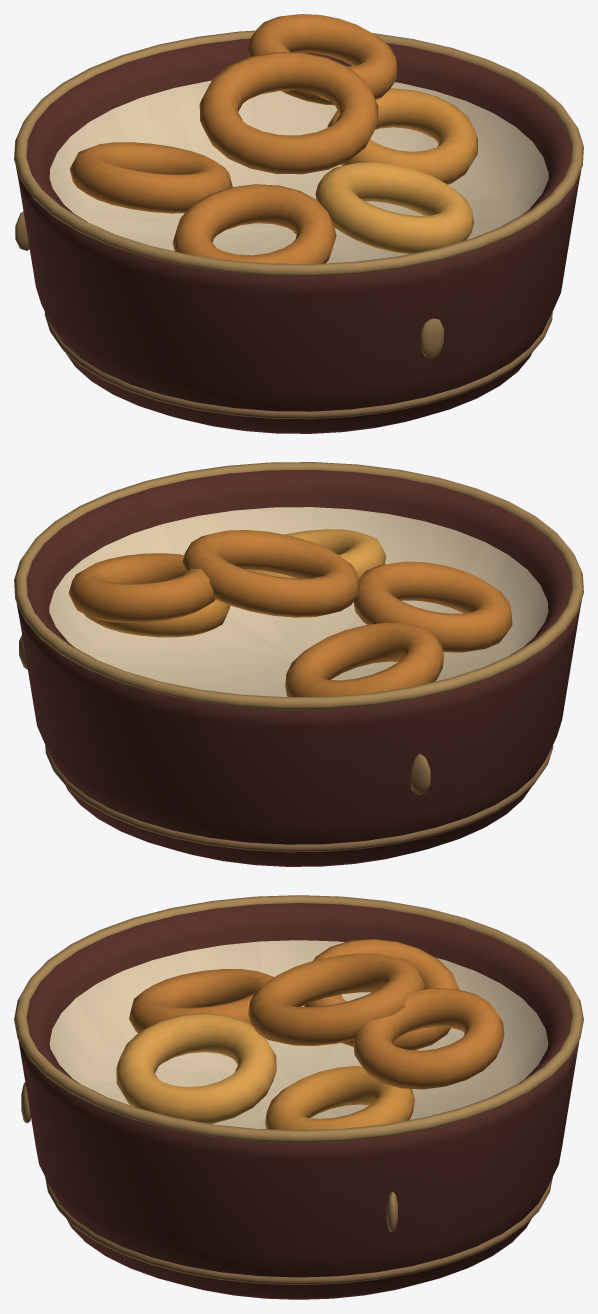
Rendered from mini-donuts.glb.
3 views of the same model, one above another, from view 1: azimuth 30°, elevation 25°; view 2: azimuth 150°, elevation 25°; view 3: azimuth 270°, elevation 25° (orthographic).
Visible parts, largest first — view 1: Burgundy_festival_basket, Warm_cream_basket_lining, Visible_ring_mini_donut_4, Antique_brass_basket_rim, Visible_ring_mini_donut_1, Visible_ring_mini_donut_3, Visible_ring_mini_donut_0, Visible_ring_mini_donut_2, Visible_ring_mini_donut_5, Basket_lower_brass_band, Tiny_brass_leaf_2; view 2: Burgundy_festival_basket, Warm_cream_basket_lining, Antique_brass_basket_rim, Visible_ring_mini_donut_4, Visible_ring_mini_donut_0, Visible_ring_mini_donut_3, Visible_ring_mini_donut_5, Basket_lower_brass_band, Visible_ring_mini_donut_1, Visible_ring_mini_donut_2, Tiny_brass_leaf_1; view 3: Burgundy_festival_basket, Warm_cream_basket_lining, Antique_brass_basket_rim, Visible_ring_mini_donut_1, Visible_ring_mini_donut_4, Visible_ring_mini_donut_5, Visible_ring_mini_donut_2, Visible_ring_mini_donut_0, Basket_lower_brass_band, Visible_ring_mini_donut_3.
Boxes of the visible parts, x1=… form: Burgundy_festival_basket: x1=16, y1=38, x2=581, y2=433; Warm_cream_basket_lining: x1=49, y1=80, x2=548, y2=263; Visible_ring_mini_donut_4: x1=199, y1=52, x2=378, y2=174; Antique_brass_basket_rim: x1=14, y1=30, x2=583, y2=276; Visible_ring_mini_donut_1: x1=315, y1=162, x2=473, y2=254; Visible_ring_mini_donut_3: x1=70, y1=142, x2=232, y2=213; Visible_ring_mini_donut_0: x1=172, y1=184, x2=336, y2=263; Visible_ring_mini_donut_2: x1=327, y1=88, x2=477, y2=184; Visible_ring_mini_donut_5: x1=248, y1=14, x2=397, y2=105; Basket_lower_brass_band: x1=44, y1=312, x2=552, y2=419; Tiny_brass_leaf_2: x1=420, y1=318, x2=443, y2=358; Burgundy_festival_basket: x1=16, y1=469, x2=581, y2=866; Warm_cream_basket_lining: x1=49, y1=507, x2=548, y2=696; Antique_brass_basket_rim: x1=14, y1=462, x2=583, y2=709; Visible_ring_mini_donut_4: x1=182, y1=530, x2=359, y2=617; Visible_ring_mini_donut_0: x1=353, y1=561, x2=512, y2=652; Visible_ring_mini_donut_3: x1=285, y1=623, x2=443, y2=696; Visible_ring_mini_donut_5: x1=68, y1=553, x2=215, y2=622; Basket_lower_brass_band: x1=45, y1=745, x2=553, y2=852; Visible_ring_mini_donut_1: x1=245, y1=529, x2=386, y2=578; Visible_ring_mini_donut_2: x1=83, y1=599, x2=230, y2=637; Tiny_brass_leaf_1: x1=410, y1=753, x2=430, y2=794; Burgundy_festival_basket: x1=18, y1=903, x2=579, y2=1299; Warm_cream_basket_lining: x1=49, y1=940, x2=548, y2=1128; Antique_brass_basket_rim: x1=14, y1=895, x2=583, y2=1142; Visible_ring_mini_donut_1: x1=116, y1=1013, x2=276, y2=1123; Visible_ring_mini_donut_4: x1=248, y1=953, x2=424, y2=1045; Visible_ring_mini_donut_5: x1=353, y1=988, x2=504, y2=1089; Visible_ring_mini_donut_2: x1=265, y1=1066, x2=414, y2=1130; Visible_ring_mini_donut_0: x1=129, y1=969, x2=273, y2=1032; Basket_lower_brass_band: x1=45, y1=1177, x2=552, y2=1285; Visible_ring_mini_donut_3: x1=304, y1=939, x2=459, y2=1050.
Size of the model in its own units: 0.834 by 0.405 by 0.834.
